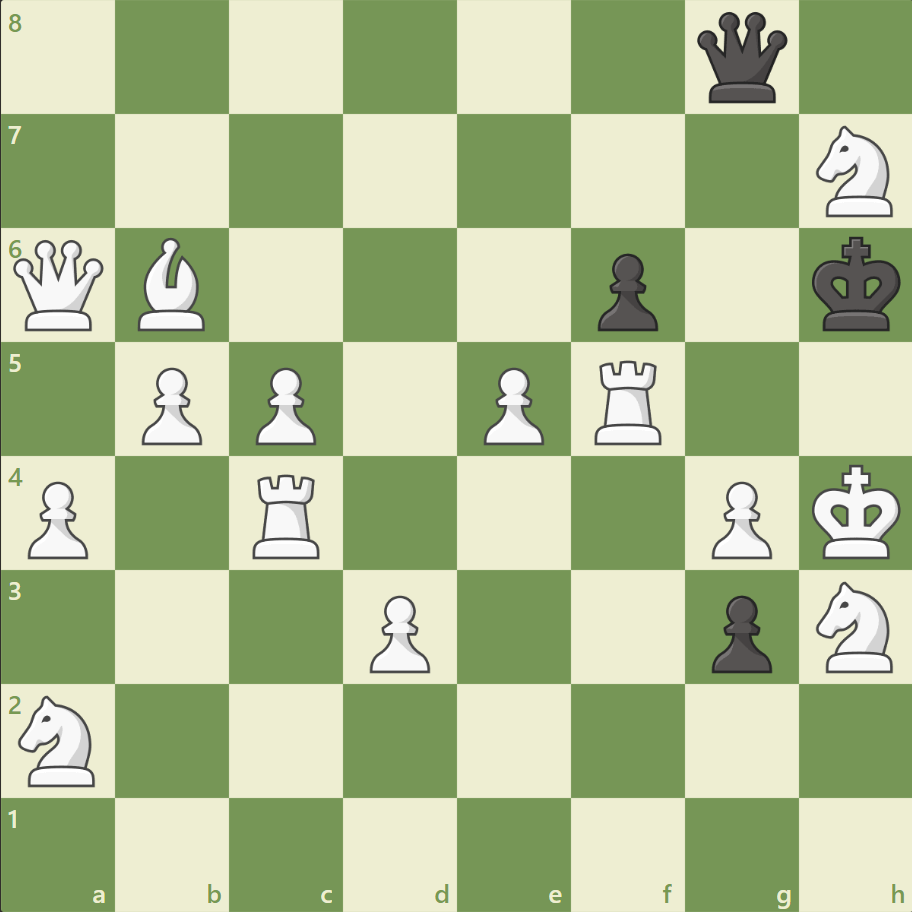B: (131, 233, 215, 336)
K: (806, 458, 906, 566)
N: (11, 688, 108, 791), (806, 121, 903, 223), (806, 575, 903, 677)
P: (133, 359, 208, 450), (247, 359, 322, 450), (474, 359, 549, 450), (20, 473, 95, 564), (701, 473, 776, 564), (361, 586, 435, 677)
Q: (10, 236, 109, 335)
R: (587, 352, 670, 449), (246, 466, 329, 563)
k: (806, 231, 906, 339)
p: (701, 586, 776, 677), (588, 246, 662, 337)
q: (691, 9, 790, 108)
